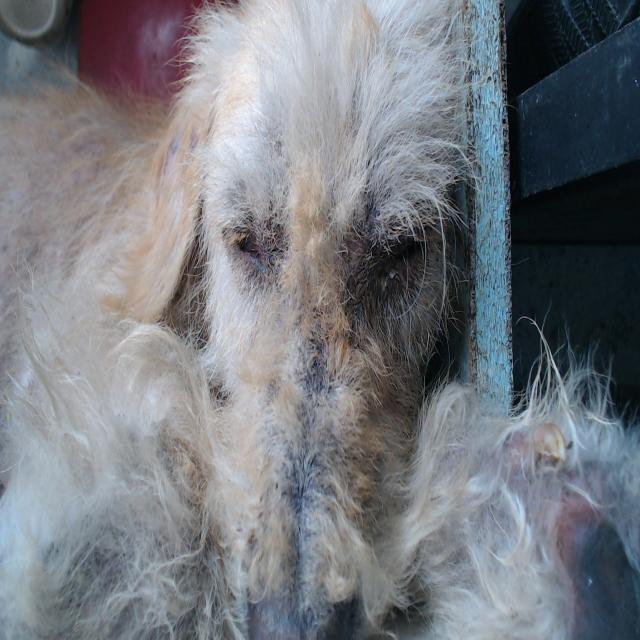demodicosis: (273, 352, 331, 565), (161, 140, 194, 188)
